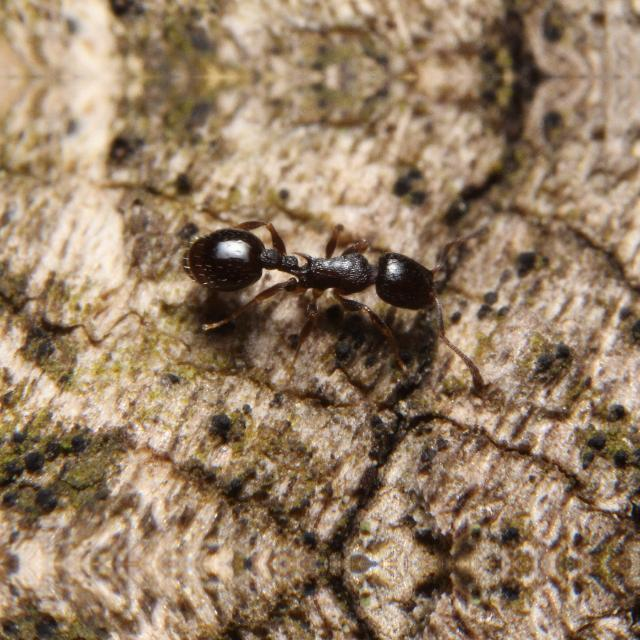Temnothorax: (153, 194, 480, 344)
